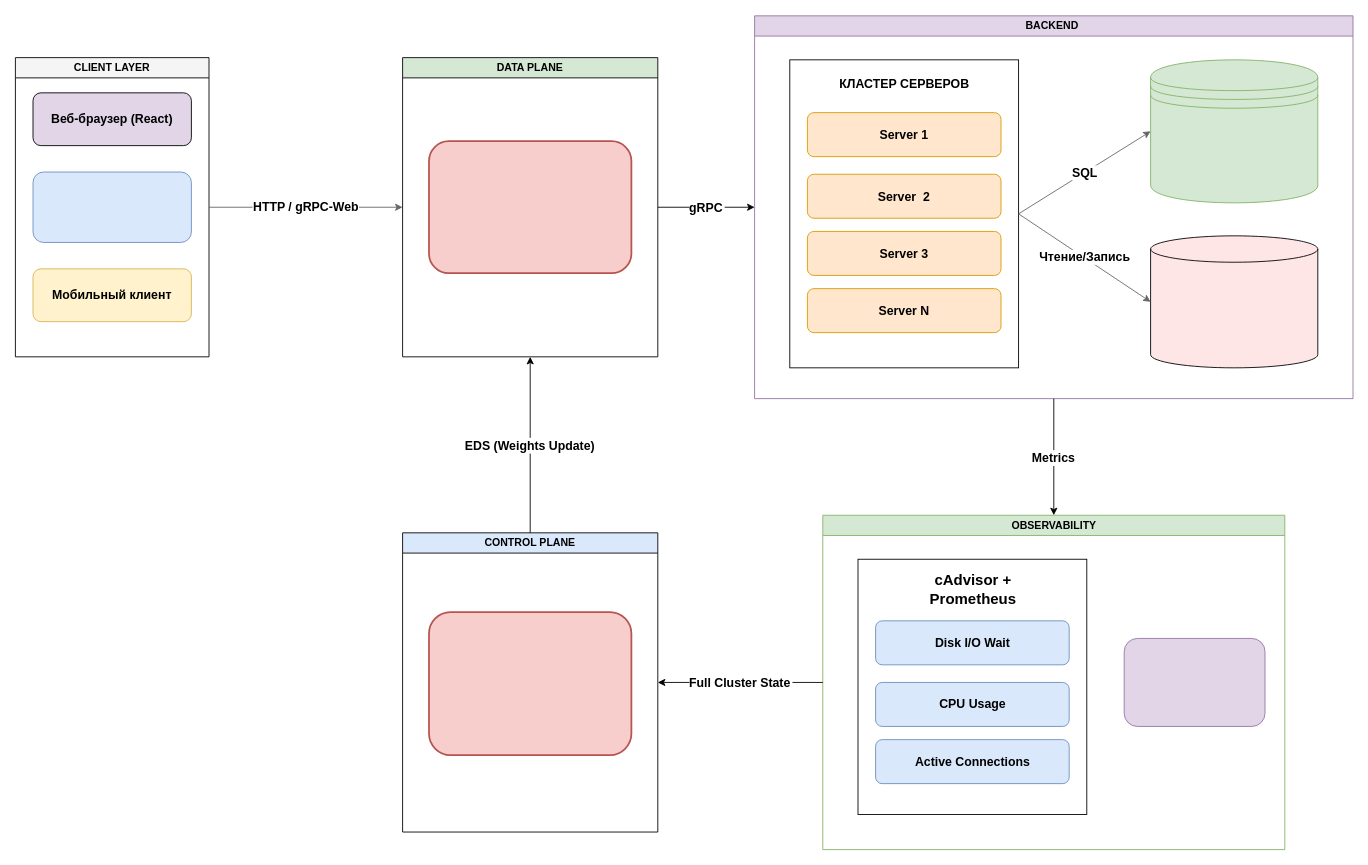
Image size: 1368x865. Some labels were removed from this diagram. The centre of each missing label's shape, as x and y in pixels:
Envoy Proxy (v1.33) L7 Балансировщик gRPC-Web Filter: (530,207)
Grafana: (1194,682)
Load-Stand (Go) Генератор нагрузки: (111,206)
PostgreSQL (Метаданные и пользователи): (1234,301)
PPO CONTROLLER • Онлайн обучение • Обновление весов (EDS): (530,683)
Файловое Хранилище (Диск / Облако): (1234,131)
